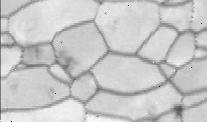good_void: (53, 47, 81, 75), (168, 102, 188, 122), (23, 43, 42, 60), (41, 86, 57, 102)
